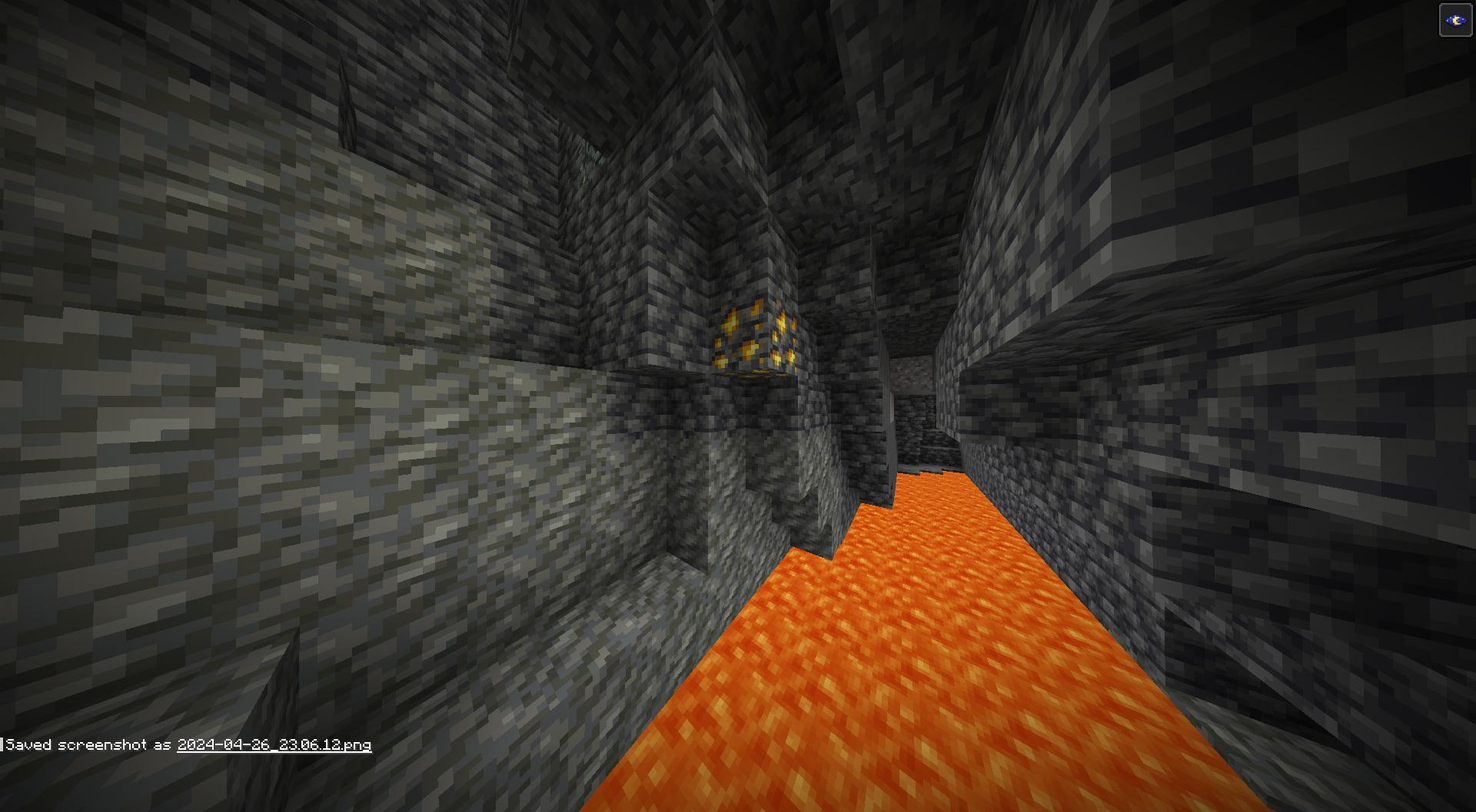gold ore: (713, 303, 802, 376)
